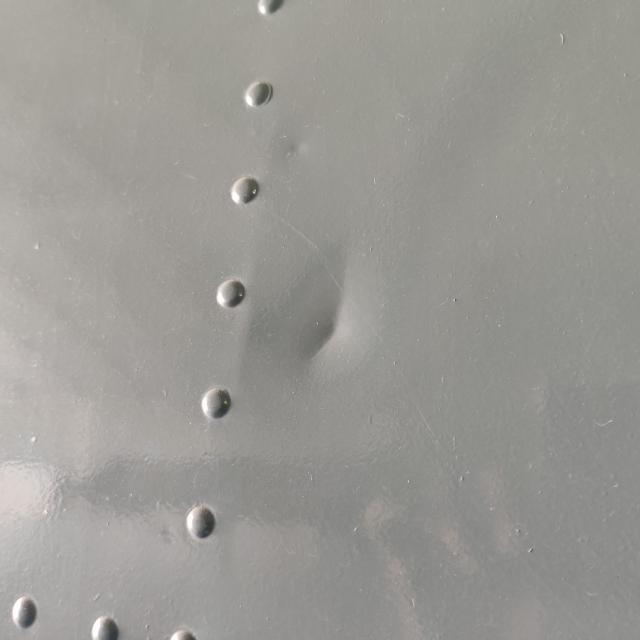dent: (277, 250, 384, 393)
